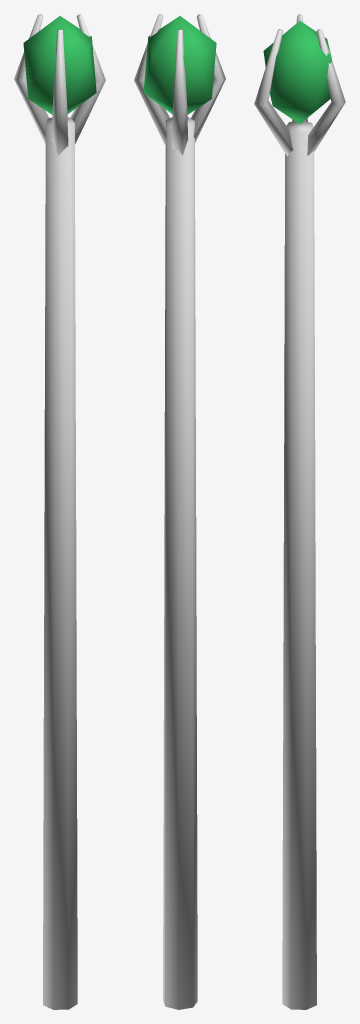
File: emerald_staff.glb
3 renders of one model, left to right at view 1: azimuth 30°, elevation 25°; view 2: azimuth 150°, elevation 25°; view 3: azimuth 330°, elevation 25°, orthographic.
Visible parts, largest first — view 1: emerald_staff_v0; view 2: emerald_staff_v0; view 3: emerald_staff_v0.
Boxes of the visible parts, x1=… form: emerald_staff_v0: x1=14, y1=14, x2=105, y2=1009; emerald_staff_v0: x1=134, y1=14, x2=225, y2=1009; emerald_staff_v0: x1=254, y1=14, x2=345, y2=1009.
Bounding box in the file's own units: 0.1164 × 1.46 × 0.1182.
